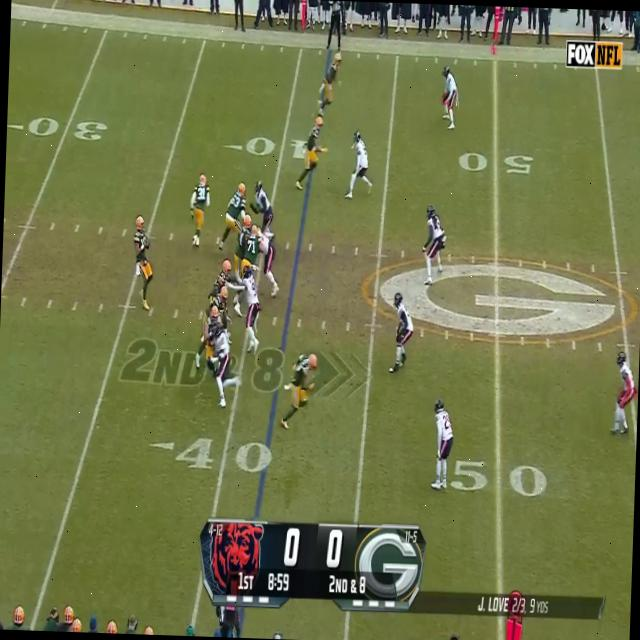Player: (282, 352, 318, 432), (610, 350, 638, 437), (429, 398, 454, 492), (132, 208, 154, 310), (389, 292, 414, 376), (421, 204, 446, 287), (210, 324, 234, 408), (237, 268, 260, 355), (298, 116, 323, 190), (222, 180, 248, 250), (253, 228, 280, 295), (189, 170, 210, 246), (318, 52, 342, 115), (348, 130, 370, 198), (250, 177, 274, 237), (440, 65, 459, 130), (241, 224, 260, 271), (234, 212, 248, 275), (204, 306, 220, 358), (214, 254, 232, 291), (214, 285, 228, 310)
Referee: (327, 1, 342, 46)
